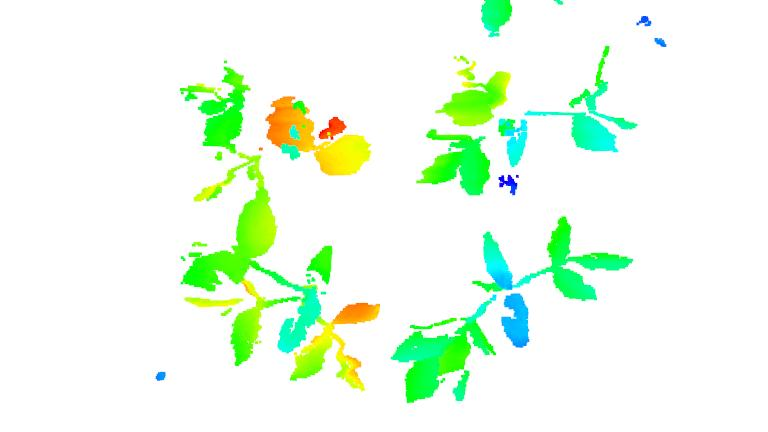mungbean: (389, 215, 634, 407), (165, 62, 378, 253), (413, 46, 642, 196), (170, 248, 382, 386)
